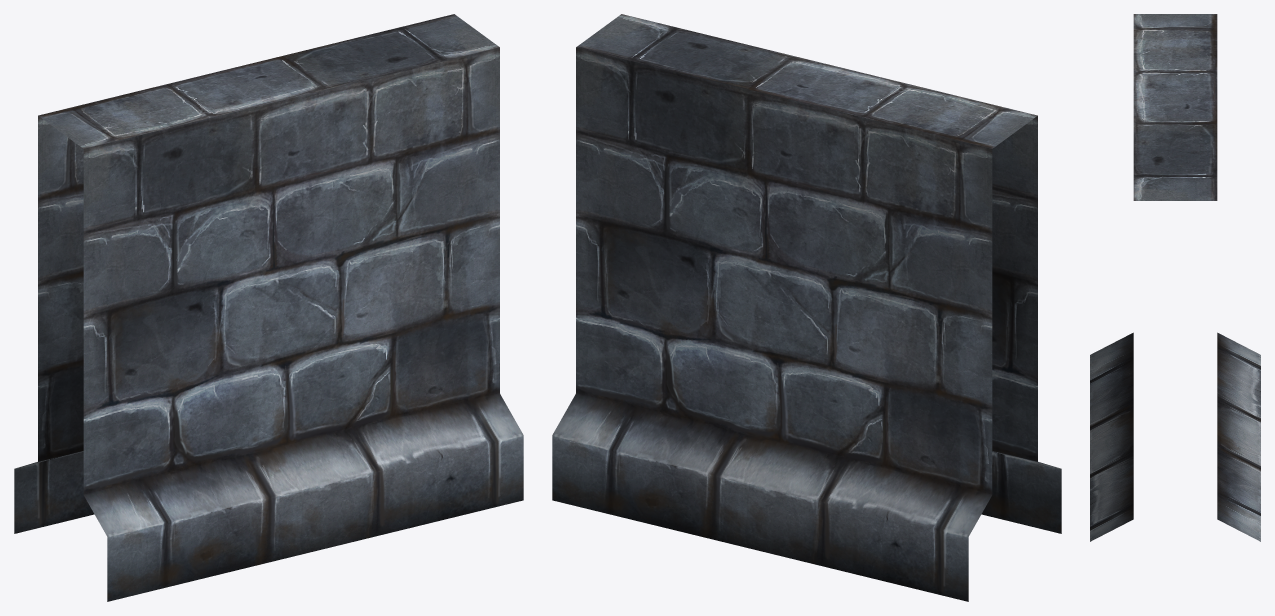
The model's file is B_shiqiang02.fbx.
The picture shows the model from 3 angles, left to right: view 1: azimuth 30°, elevation 25°; view 2: azimuth 150°, elevation 25°; view 3: azimuth 270°, elevation 25°; orthographic projection. The views are drawn at different scales.
Visible parts, largest first — view 1: B_shiqiang02; view 2: B_shiqiang02; view 3: B_shiqiang02.
Boxes of the visible parts, box(x1,y1,x2,y2) form: B_shiqiang02: box(14, 14, 523, 601); B_shiqiang02: box(552, 14, 1061, 601); B_shiqiang02: box(1090, 14, 1260, 541).
Bounding box in the file's own units: 443 × 443 × 171.
